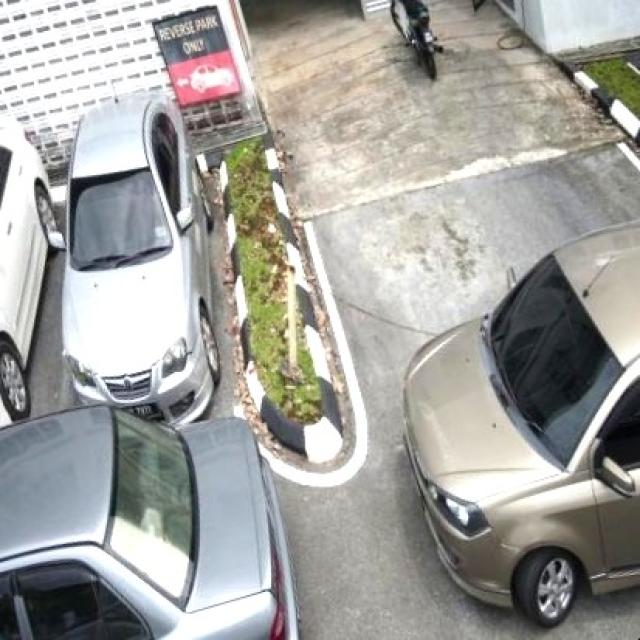Legalparking: (62, 96, 218, 423), (0, 118, 65, 422)
illegalparking: (404, 222, 638, 623), (0, 408, 296, 638)
